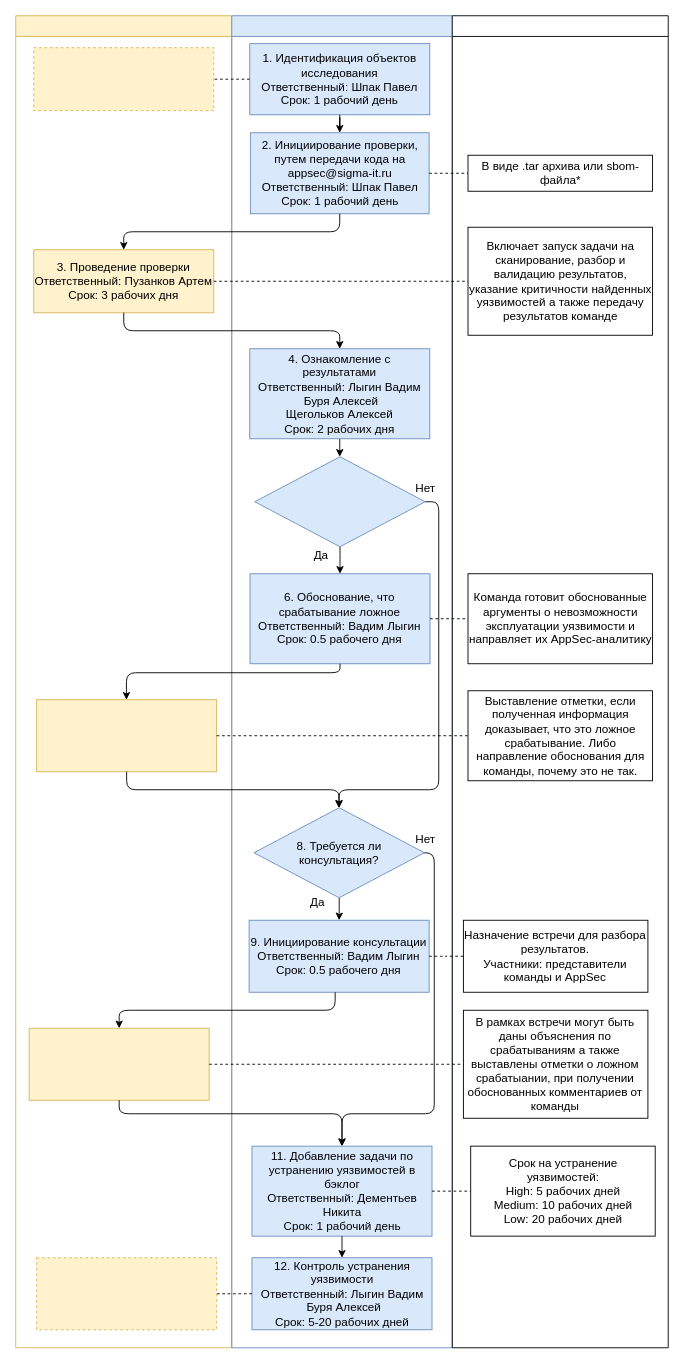
The diagram is 684 pixels wide and 1364 high, and some of its shapes have lost their labels. The box of each missing label's shape, as (x1, y1, x2, y2) in pixels:
10. Проведение консультации Ответственный: Голузина Дарья Срок: 0.5 рабочего дня: (28, 1027, 209, 1100)
5. Есть ложные срабатывания?: (254, 456, 425, 547)
7. Принятие решения Ответственный: Голузина Дарья Срок: 0.5 рабочего дня: (36, 699, 217, 772)
AppSec: (15, 15, 232, 1348)
Команда разработки: (231, 15, 452, 1348)
Ответственный: Голузина Дарья: (36, 1257, 217, 1330)
Примечания: (451, 15, 668, 1348)
Проведение консультации по необходимости: (33, 47, 214, 111)
